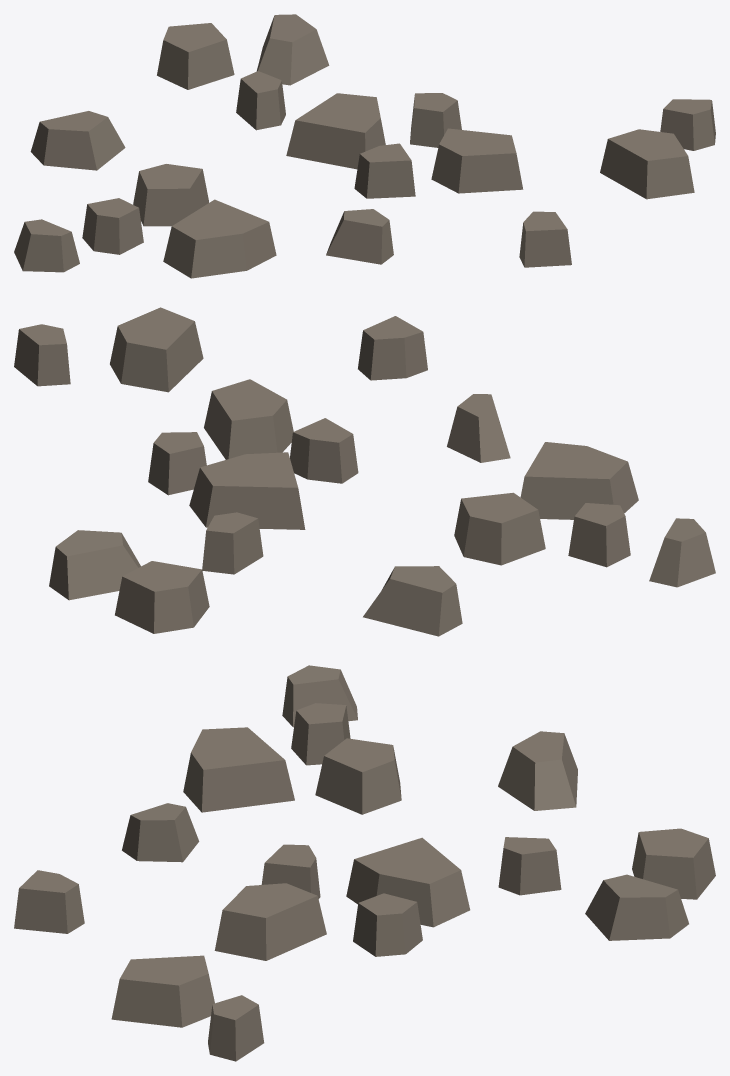
File: SM_Env_Pebbles_04.glb
3 views of the same model, one above another, from view 1: azimuth 30°, elevation 25°; view 2: azimuth 150°, elevation 25°; view 3: azimuth 270°, elevation 25° (orthographic). The views are drawn at different scales.
Visible parts, largest first — view 1: SM_Env_Pebbles_04; view 2: SM_Env_Pebbles_04; view 3: SM_Env_Pebbles_04.
Part boxes in pixels (box(x1,y1,x2,y2)): SM_Env_Pebbles_04: box(14, 14, 715, 278); SM_Env_Pebbles_04: box(14, 307, 715, 636); SM_Env_Pebbles_04: box(14, 665, 715, 1061).
Size of the model in its own units: 3.04 by 0.153 by 2.49.
1 material, 1 textured.
